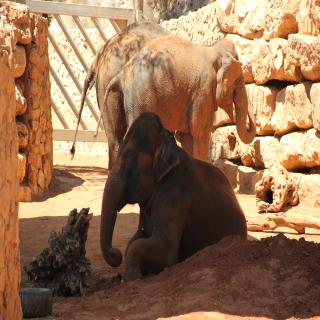Elephant: (98, 106, 253, 288), (94, 19, 264, 157)
